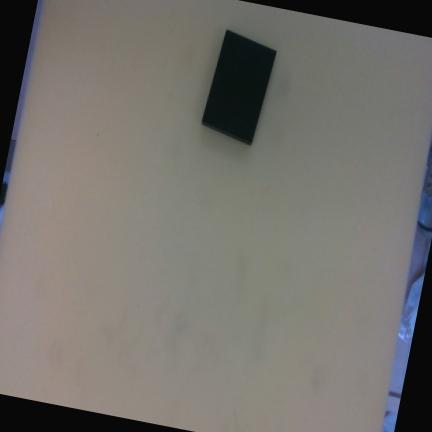tile: (200, 28, 279, 143)
